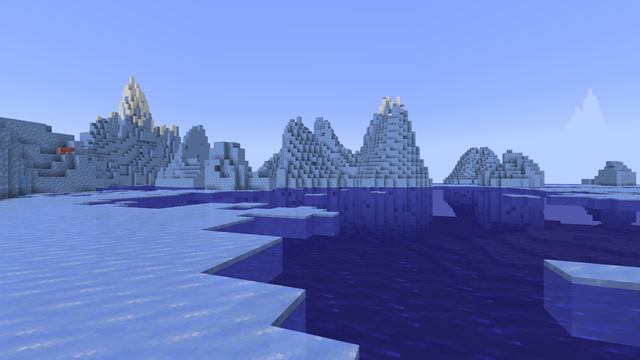cochons: (58, 147, 70, 154)
